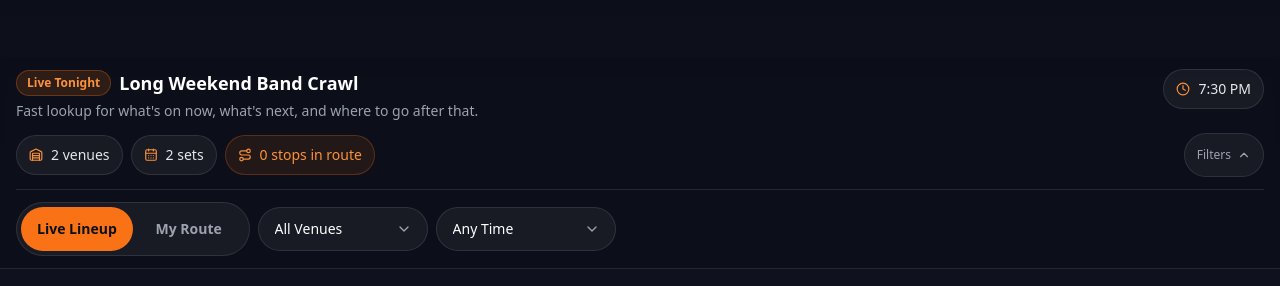
it: LiveContextBar › collapses and expands the filter panel when the toggle is clicked
expect the dropdown named "Time filter" is shown: met, box [436,207,616,251]
Note: Click to collapse
What coordinates should you click on to do the following:
click the button with aria-label "hide filters"
I would click on:
 (1224, 155)
Its box is [1184,133,1264,177].
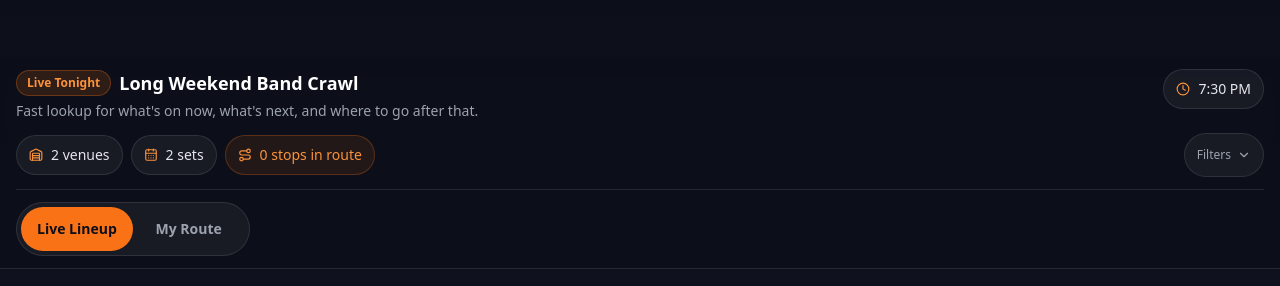
expect the field labelled "Time filter" is not shown: met
expect the button with aria-label "show filters" is collapsed: met
Note: Click again to re-expand
What coordinates should you click on to do the following:
click the button with aria-label "show filters"
I would click on:
 (1224, 155)
Its box is [1184,133,1264,177].
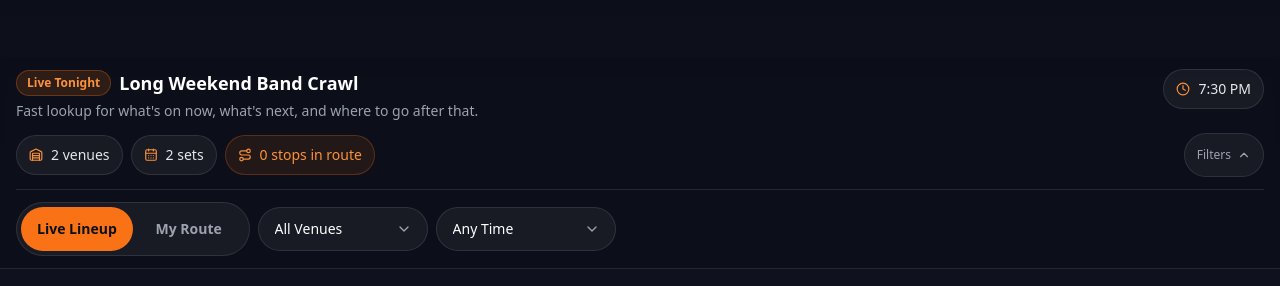
expect the dropdown named "Time filter" is shown: met, box [436,207,616,251]
